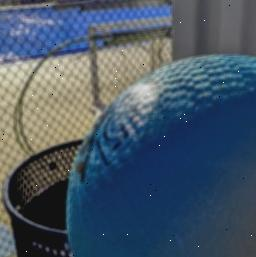algae: (62, 51, 256, 257)
